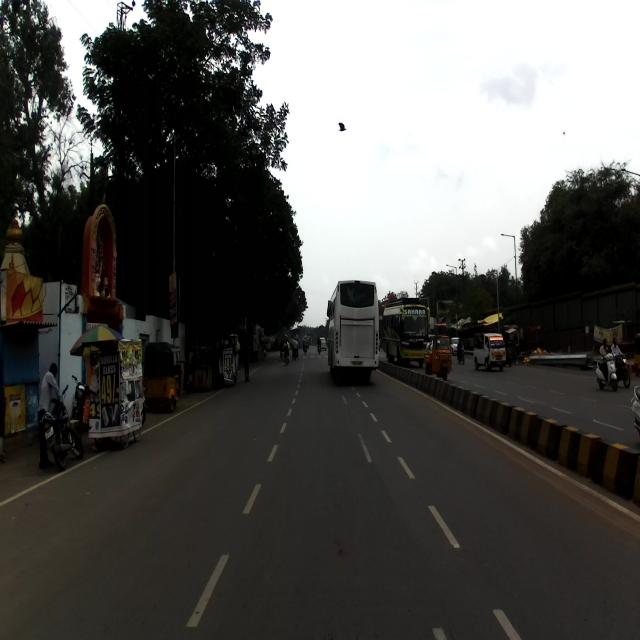autorickshaw: (424, 333, 454, 377)
bus: (324, 279, 382, 382), (380, 298, 429, 360)
motorcycle_bajaj: (39, 383, 84, 472)
truck: (472, 330, 507, 369)
